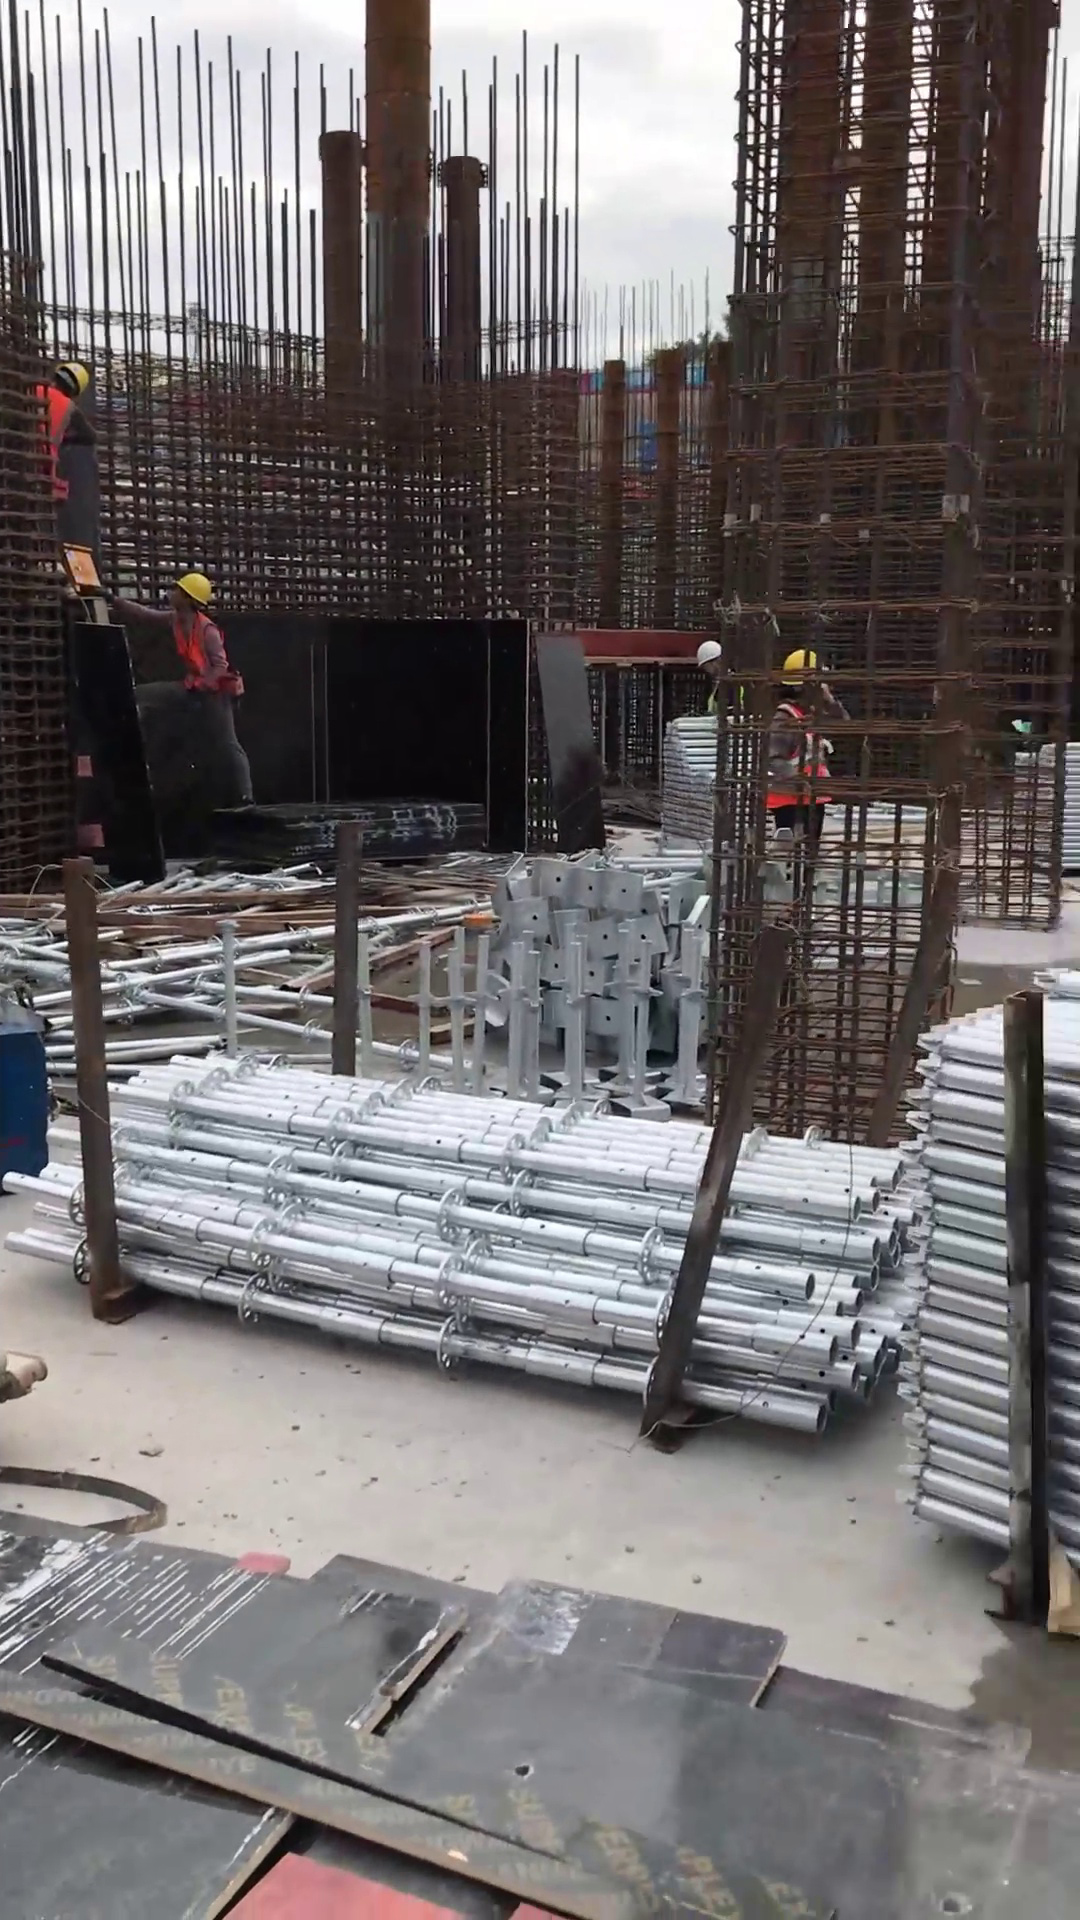board: (1, 1498, 1074, 1920)
helmet: (176, 565, 224, 616), (57, 352, 95, 400), (689, 637, 724, 668)
person: (76, 563, 276, 827), (28, 347, 105, 595), (682, 631, 753, 731)
scaffold: (11, 1034, 937, 1448), (892, 975, 1080, 1559), (664, 715, 735, 841)
vest: (160, 602, 245, 710), (34, 385, 82, 519)
